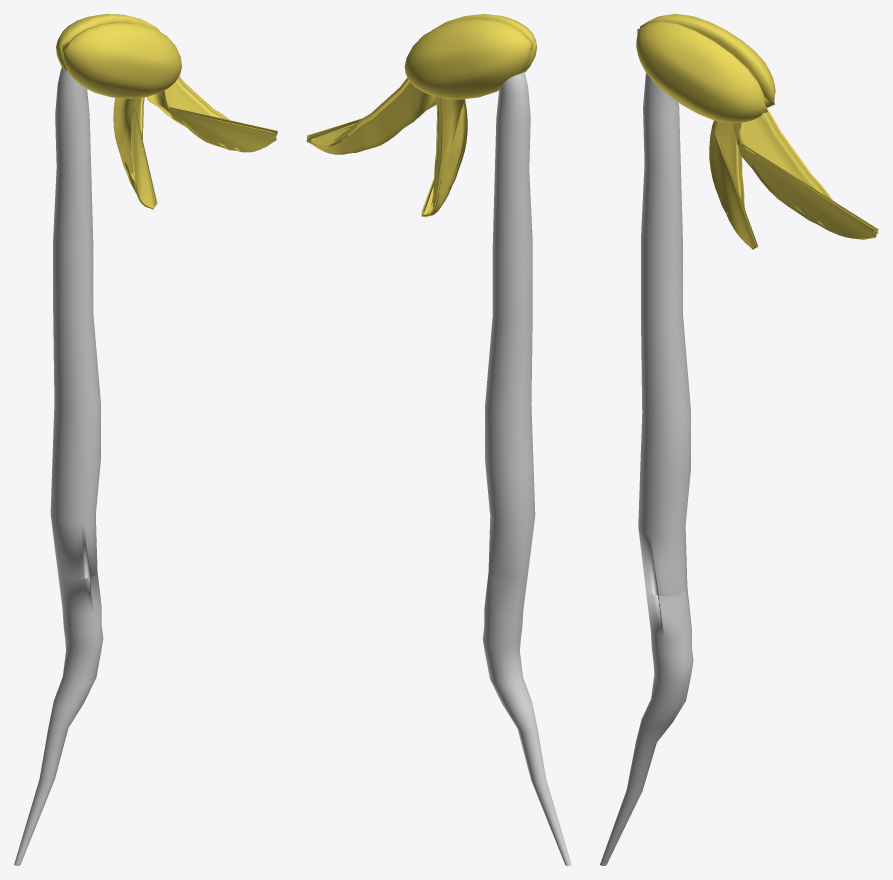
The model's file is beanSprout.fbx.
The picture shows the model from 3 angles, left to right: view 1: azimuth 30°, elevation 25°; view 2: azimuth 150°, elevation 25°; view 3: azimuth 330°, elevation 25°; orthographic projection. The views are drawn at different scales.
Visible parts, largest first — view 1: Plane, bean, leaves; view 2: Plane, bean, leaves; view 3: Plane, bean, leaves.
Boxes of the visible parts, x1=… form: Plane: x1=14, y1=67, x2=103, y2=865; bean: x1=56, y1=14, x2=181, y2=98; leaves: x1=113, y1=76, x2=277, y2=209; Plane: x1=482, y1=71, x2=571, y2=865; bean: x1=404, y1=14, x2=536, y2=99; leaves: x1=306, y1=78, x2=467, y2=217; Plane: x1=600, y1=73, x2=693, y2=865; bean: x1=636, y1=14, x2=775, y2=123; leaves: x1=709, y1=107, x2=878, y2=249.
Bounding box in the file's own units: 2.22 × 6.67 × 0.5997.
